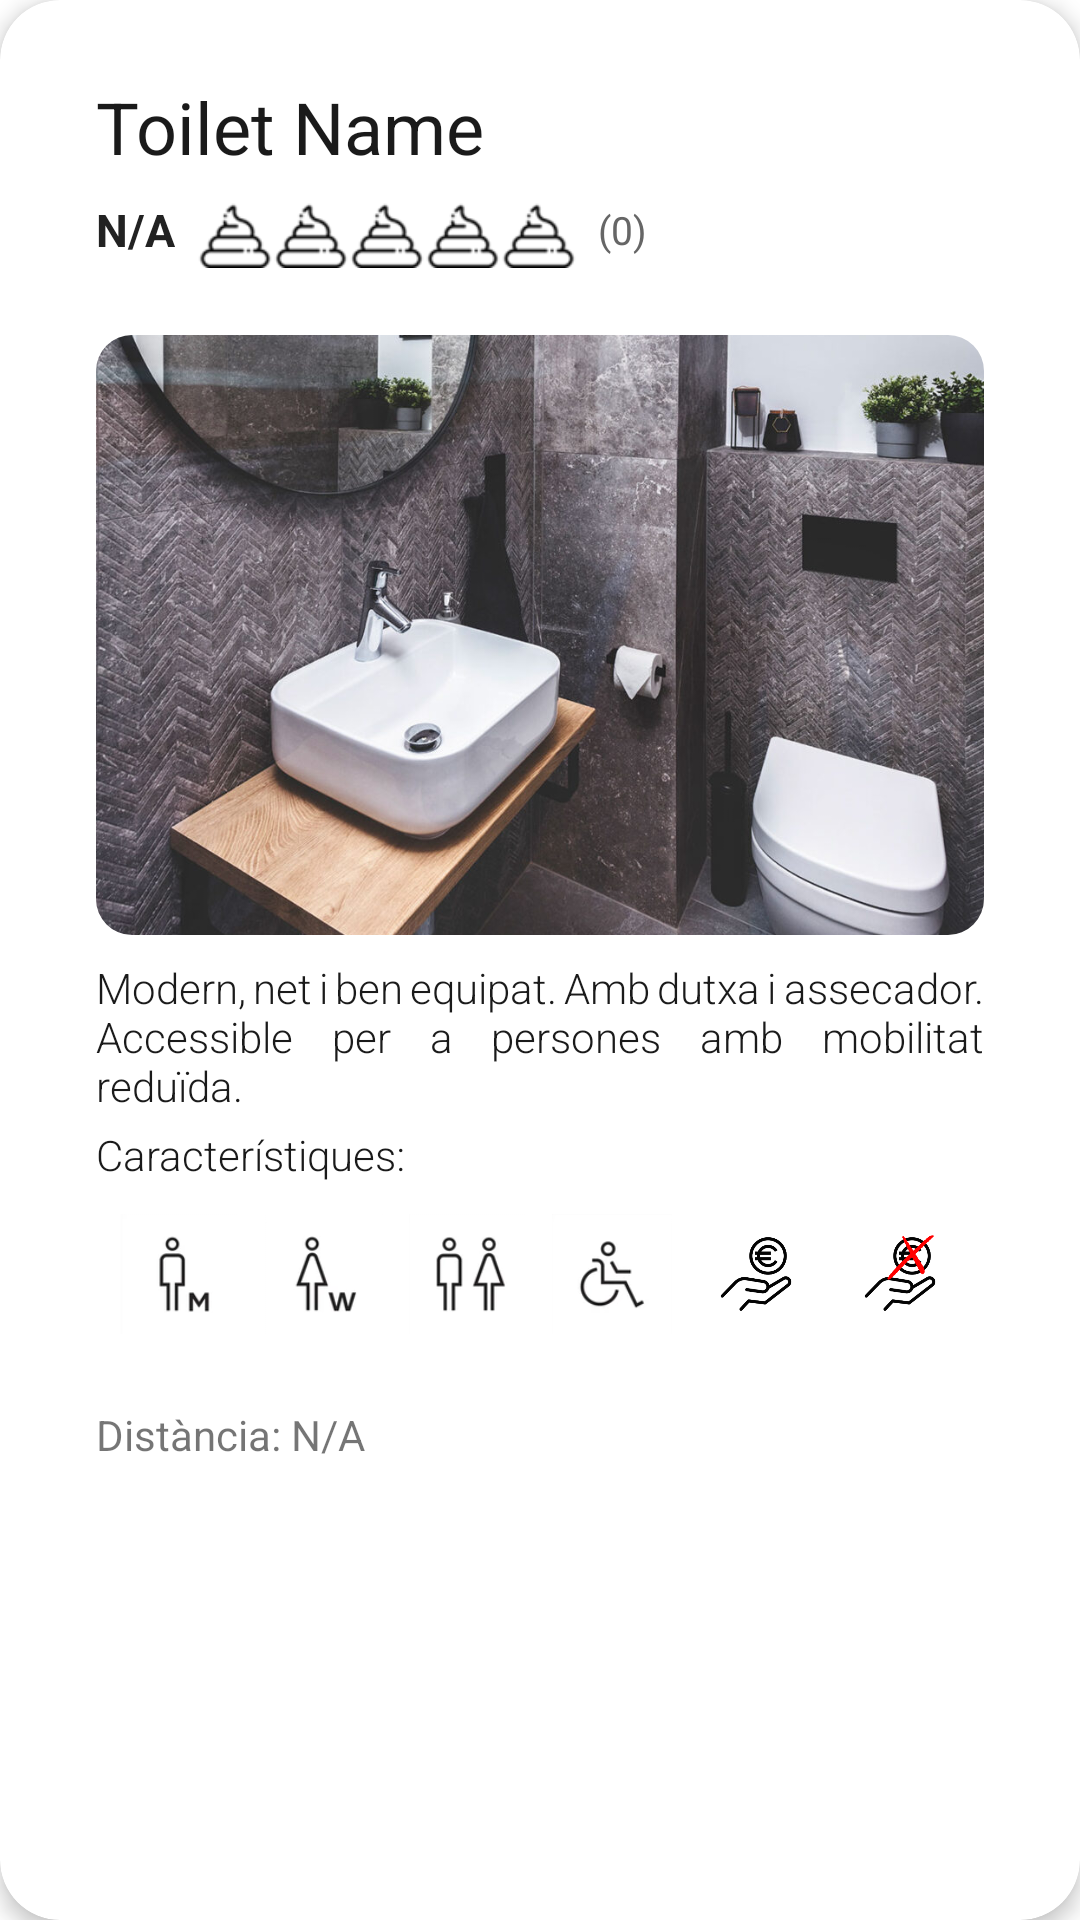

Icon bounding boxes for this 1080px×1920px phone screenshot, format [x1=x1, y1=y1, x2=x2, y2=y2]:
men: [x1=159, y1=1237, x2=210, y2=1312]
not payment: [x1=865, y1=1235, x2=935, y2=1311]
payment: [x1=721, y1=1237, x2=791, y2=1311]
unisex: [x1=436, y1=1237, x2=505, y2=1311]
women: [x1=296, y1=1236, x2=356, y2=1312]
